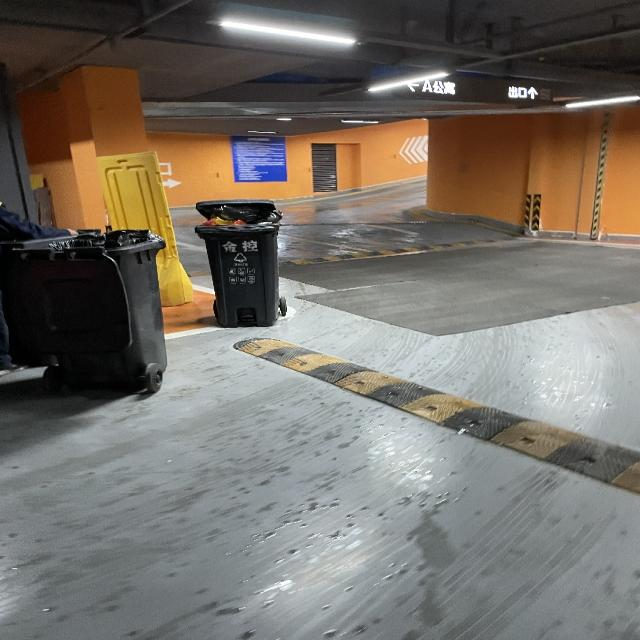overflow: (10, 229, 166, 387), (192, 200, 281, 327)
